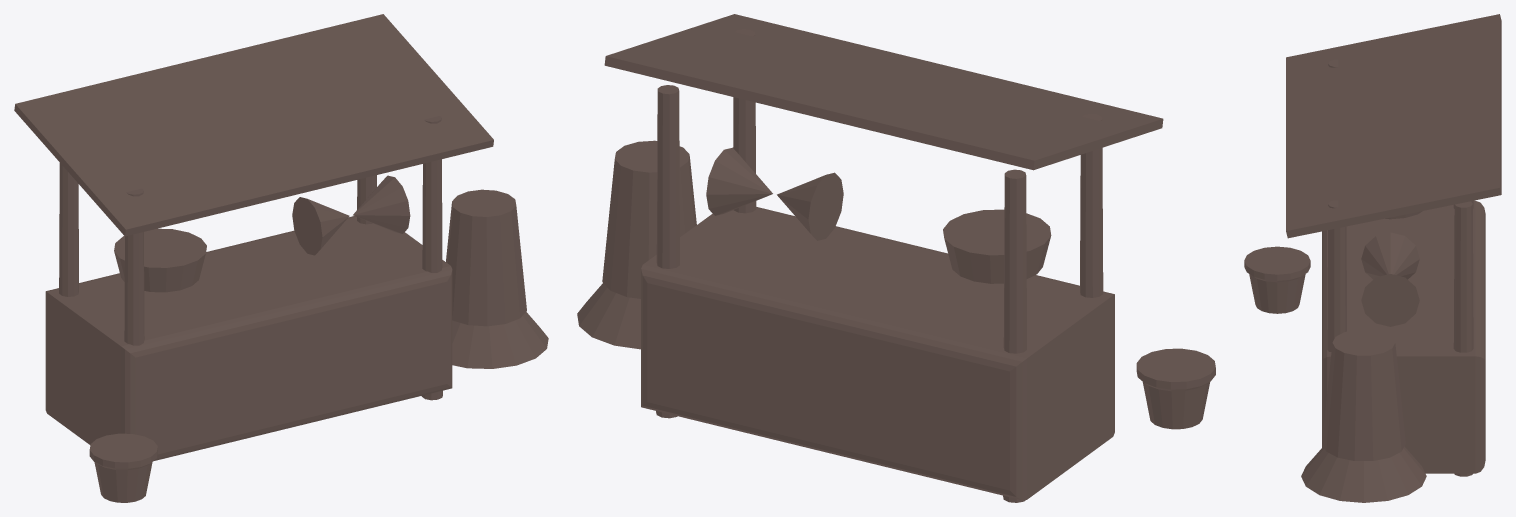
File: boutique.ol.glb
The picture shows the model from 3 angles, left to right: view 1: azimuth 30°, elevation 25°; view 2: azimuth 150°, elevation 25°; view 3: azimuth 270°, elevation 25°; orthographic projection. The views are drawn at different scales.
Size of the model in its own units: 8.24 by 5 by 3.87.
